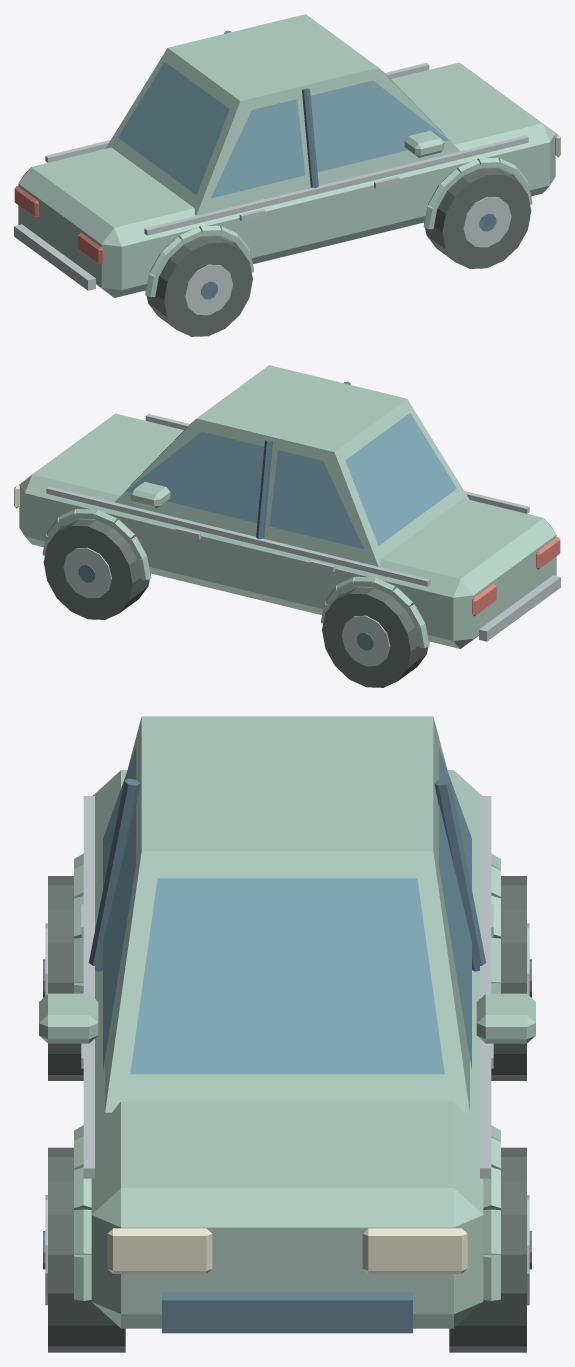
The model's file is car-1.glb.
3 renders of one model, top to bottom at view 1: azimuth 30°, elevation 25°; view 2: azimuth 150°, elevation 25°; view 3: azimuth 270°, elevation 25°, orthographic. The views are drawn at different scales.
Parts seen in each view (by area): view 1: car-1_mint, car-1_glass; view 2: car-1_mint, car-1_glass; view 3: car-1_mint, car-1_glass.
Boxes of the visible parts, <box> form: car-1_mint: <box>14,14,560,336</box>; car-1_glass: <box>118,62,449,198</box>; car-1_mint: <box>14,365,560,687</box>; car-1_glass: <box>125,413,456,549</box>; car-1_mint: <box>39,716,535,1352</box>; car-1_glass: <box>103,748,471,1074</box>.
Size of the model in its own units: 2.39 by 0.99 by 1.09.
Materials: 2 (2 with a texture image).
